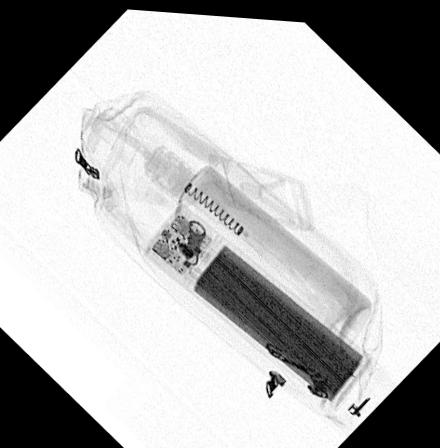Powerbank: (142, 198, 371, 403)
